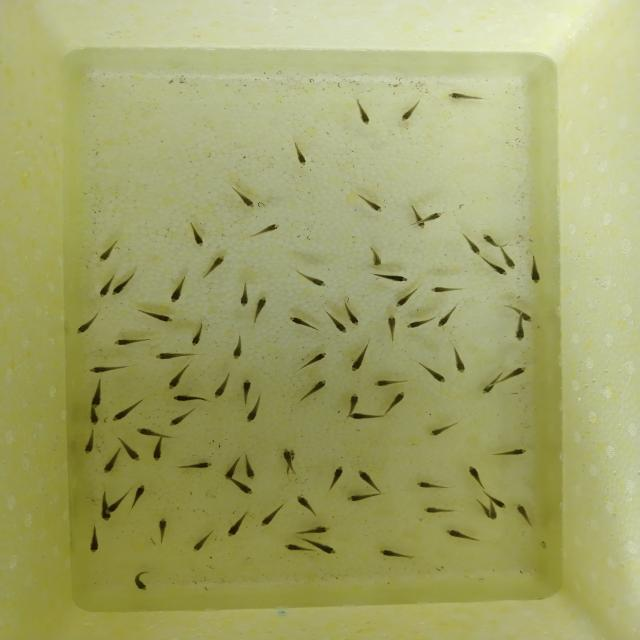fingerling: (230, 182, 259, 212), (447, 90, 497, 106), (297, 378, 327, 404), (106, 401, 145, 421), (296, 520, 338, 538), (111, 270, 137, 298), (164, 366, 192, 392), (73, 313, 105, 335), (415, 478, 448, 498), (258, 505, 288, 527), (225, 512, 248, 540), (440, 527, 480, 543), (352, 100, 374, 129), (358, 192, 387, 214), (420, 366, 454, 384), (350, 343, 371, 372), (120, 437, 143, 463), (102, 445, 122, 474), (252, 220, 284, 238), (88, 363, 136, 375), (466, 464, 488, 490), (298, 272, 331, 289), (168, 276, 188, 304), (503, 305, 538, 321), (188, 224, 210, 249), (131, 566, 153, 591), (99, 238, 120, 264), (293, 493, 320, 513), (313, 538, 340, 558), (176, 458, 217, 471), (138, 310, 176, 324), (377, 547, 415, 561), (397, 102, 420, 125), (186, 325, 209, 348), (288, 314, 317, 332), (492, 447, 529, 461), (205, 251, 226, 275), (151, 350, 201, 360), (154, 514, 173, 540), (301, 351, 330, 368), (88, 382, 106, 409), (222, 453, 240, 480), (359, 469, 382, 490), (366, 243, 386, 267), (450, 350, 468, 376), (516, 502, 534, 528), (192, 532, 213, 554), (461, 232, 481, 255), (326, 314, 349, 334), (388, 390, 408, 413), (105, 494, 129, 513), (375, 270, 410, 283), (482, 375, 501, 398), (172, 393, 208, 405), (246, 400, 264, 424), (484, 491, 508, 509), (395, 290, 420, 307), (432, 310, 453, 330), (294, 143, 310, 169), (170, 408, 193, 426), (431, 283, 465, 295), (133, 481, 148, 508), (410, 206, 426, 231), (330, 464, 346, 489), (213, 376, 230, 399), (253, 294, 266, 324), (370, 378, 409, 388), (232, 332, 245, 362), (530, 256, 542, 288), (507, 365, 532, 380), (97, 274, 113, 297), (241, 376, 254, 404), (243, 453, 256, 481), (228, 482, 261, 493), (132, 427, 172, 436), (345, 305, 362, 326), (422, 504, 454, 515), (343, 494, 382, 503), (387, 312, 400, 338), (426, 426, 454, 438), (112, 337, 148, 346), (512, 322, 526, 345), (403, 318, 429, 330), (348, 413, 382, 422), (88, 527, 99, 554), (483, 232, 504, 246), (488, 264, 510, 277), (503, 250, 516, 272), (348, 391, 361, 413), (284, 544, 312, 554), (239, 281, 249, 308), (282, 447, 292, 474), (84, 434, 95, 456), (87, 410, 100, 428), (100, 495, 109, 521), (490, 500, 500, 522), (152, 442, 162, 463), (427, 210, 443, 221)
